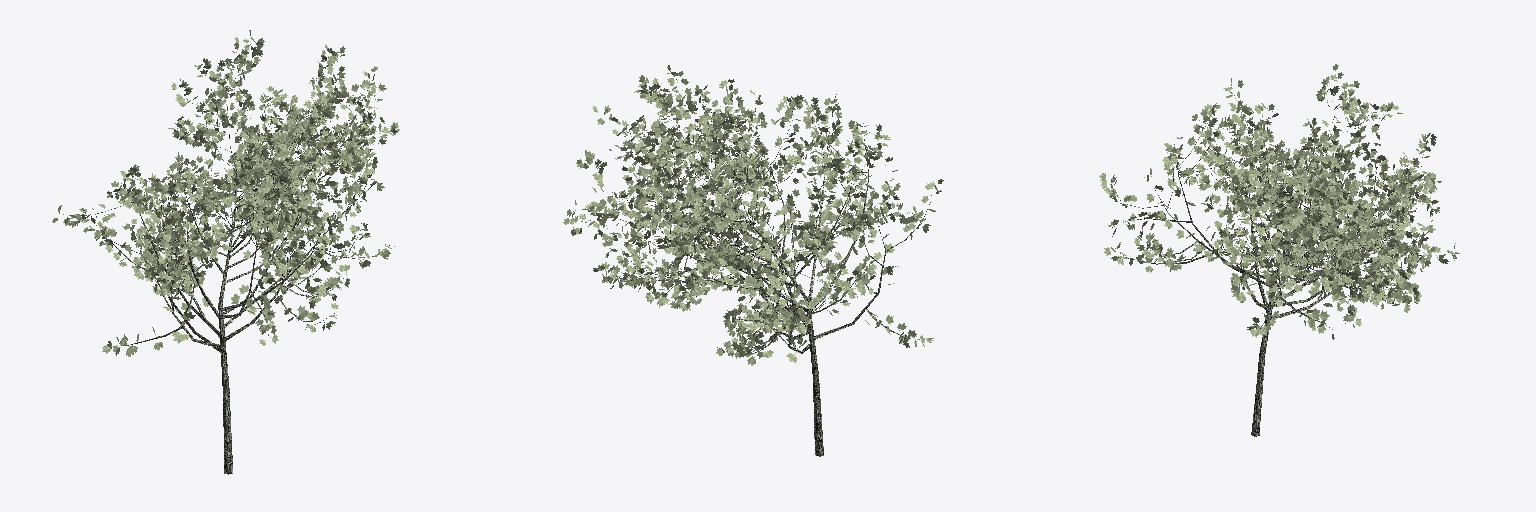
The picture shows the model from 3 angles: view 1: azimuth 30°, elevation 25°; view 2: azimuth 150°, elevation 25°; view 3: azimuth 270°, elevation 25°; orthographic projection.
Parts seen in each view (by area): view 1: trunk; view 2: trunk; view 3: trunk.
Part boxes in pixels (x1,y1,x2,y2): trunk: (52, 30, 399, 474); trunk: (563, 65, 943, 456); trunk: (1099, 64, 1459, 436).
Size of the model in its own units: 15.7 by 18.31 by 15.32.
Materials: 2 (2 with a texture image).